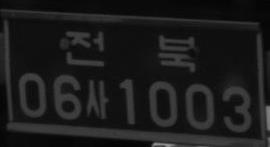0: (184, 82, 214, 131), (148, 80, 178, 128), (18, 71, 47, 119)
1: (115, 78, 141, 125)
3: (221, 85, 252, 133)
6: (52, 75, 82, 120)
사: (84, 79, 109, 119)
전북_D: (66, 30, 196, 73)
